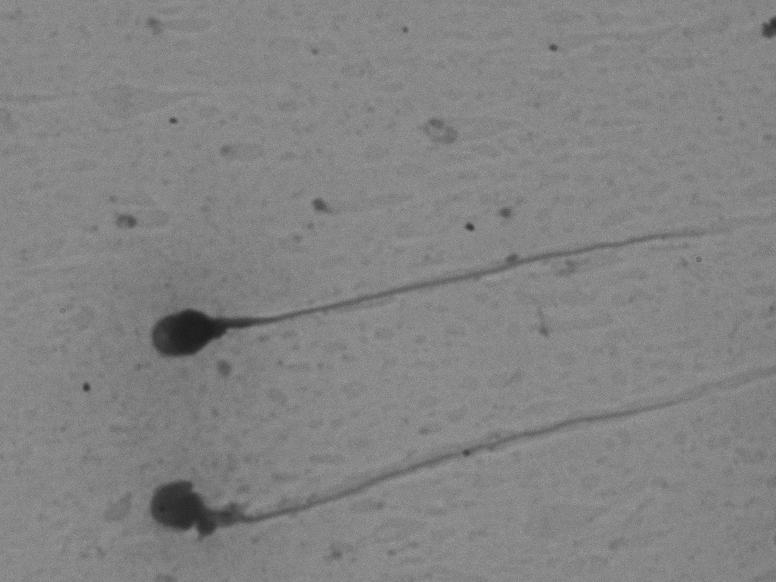Abnormal: (116, 179, 739, 381), (125, 361, 754, 560)
